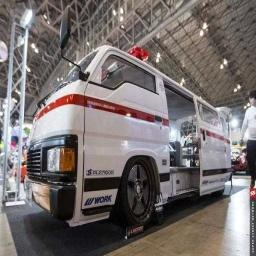ambulance: (26, 46, 230, 225)
